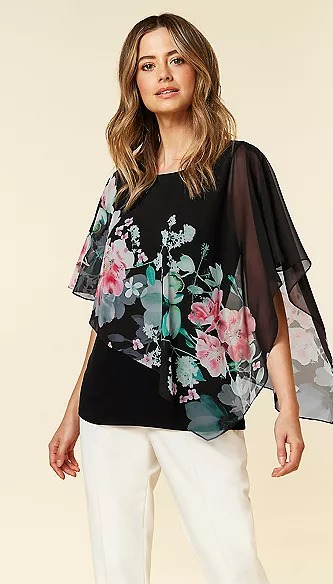C_short blouse: (70, 141, 328, 440)
